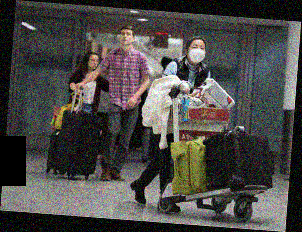with_mask: (188, 42, 207, 64)
without_mask: (119, 29, 134, 47), (87, 55, 101, 70)
